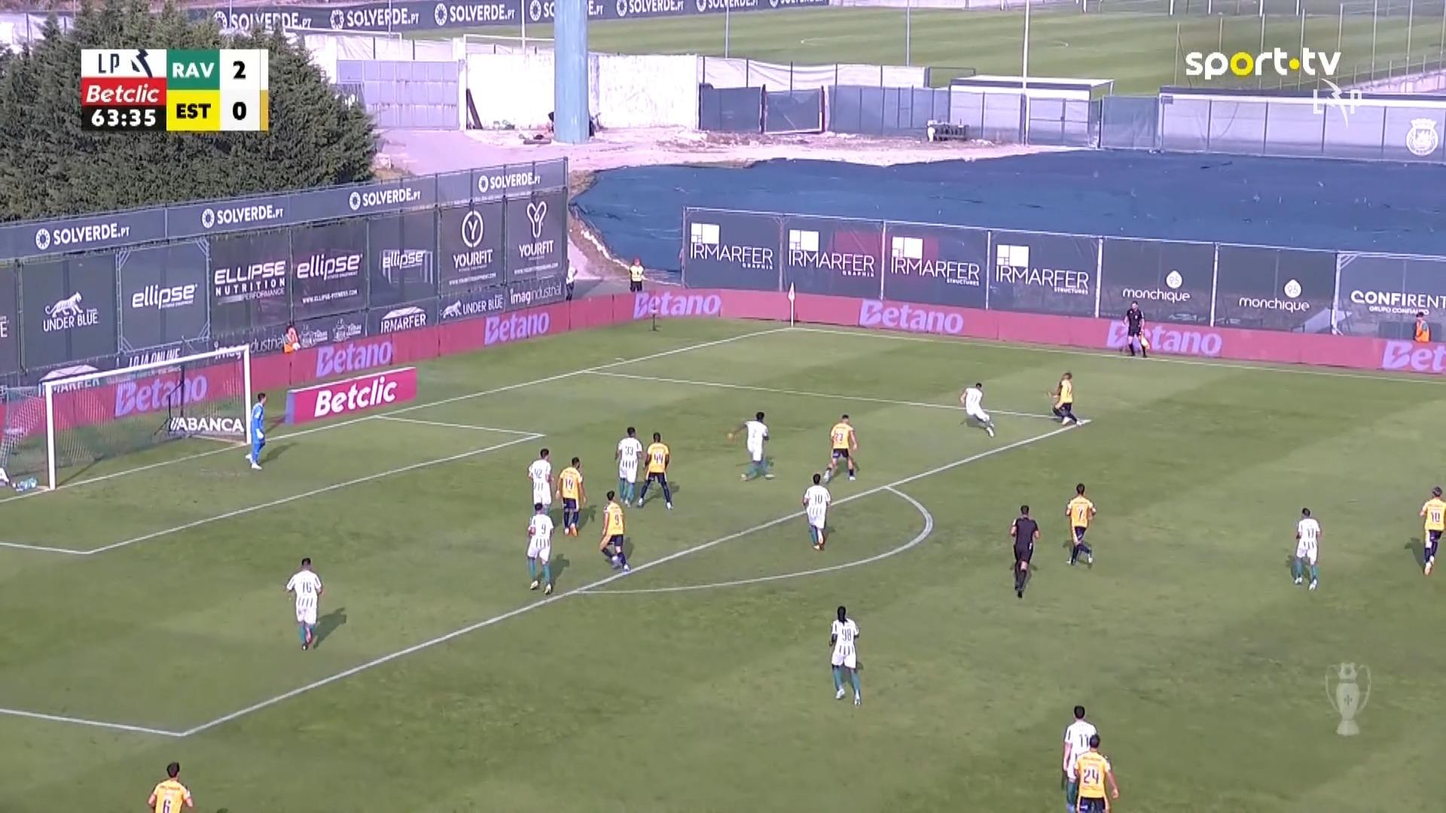ball: (1288, 57, 1300, 69)
goalkeeper: (246, 391, 267, 470)
player: (1061, 704, 1097, 811), (283, 556, 323, 650), (1072, 732, 1118, 811), (827, 604, 862, 705), (726, 410, 775, 481), (635, 431, 673, 509), (524, 501, 554, 595), (1064, 482, 1097, 566), (597, 489, 630, 572), (822, 413, 858, 483), (614, 425, 644, 507), (1292, 506, 1321, 590), (556, 455, 586, 536), (1418, 484, 1444, 575), (146, 761, 193, 811), (801, 472, 831, 550), (959, 380, 995, 437), (526, 446, 553, 516), (1049, 370, 1080, 425)
referee: (1008, 504, 1039, 598), (1123, 299, 1146, 356)
